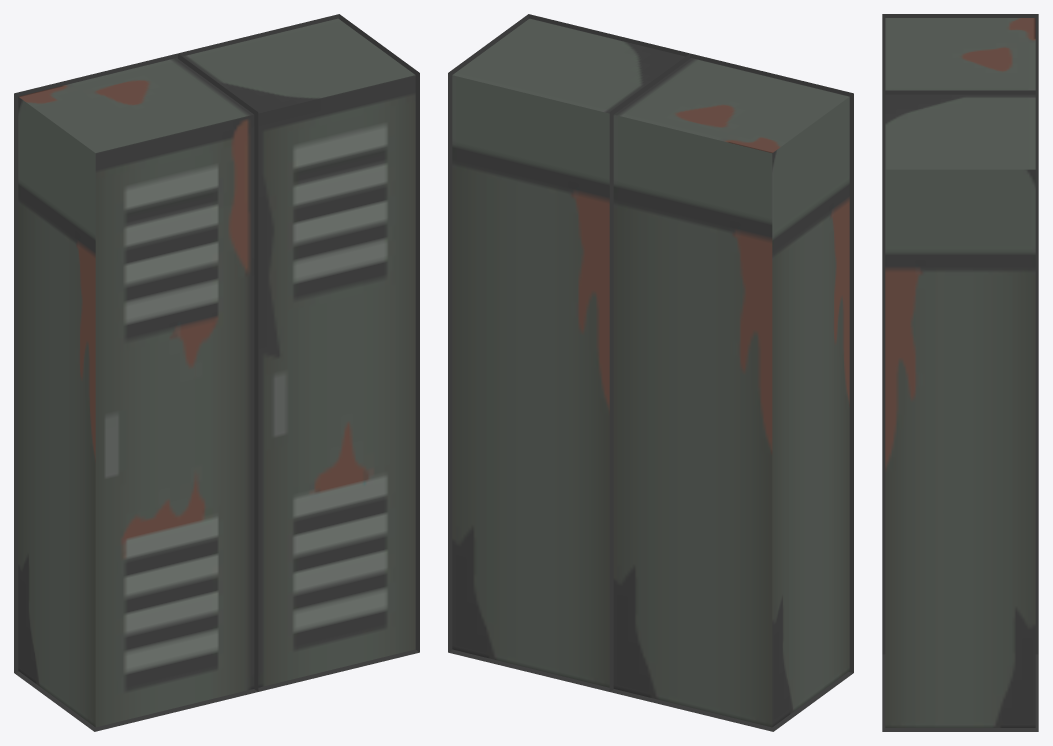
File: Building_AncientLockers.glb
3 renders of one model, left to right at view 1: azimuth 30°, elevation 25°; view 2: azimuth 150°, elevation 25°; view 3: azimuth 270°, elevation 25°, orthographic. The views are drawn at different scales.
Parts seen in each view (by area): view 1: AncientLockers, Outline; view 2: AncientLockers, Outline; view 3: AncientLockers, Outline.
Part boxes in pixels (bbox=[...]): AncientLockers: bbox=[18, 18, 415, 727]; Outline: bbox=[14, 14, 419, 731]; AncientLockers: bbox=[452, 18, 849, 727]; Outline: bbox=[448, 14, 853, 731]; AncientLockers: bbox=[885, 18, 1035, 727]; Outline: bbox=[882, 14, 1038, 731].
Size of the model in its own units: 1.07 by 1.82 by 0.4573.
Materials: 2 (1 with a texture image).
